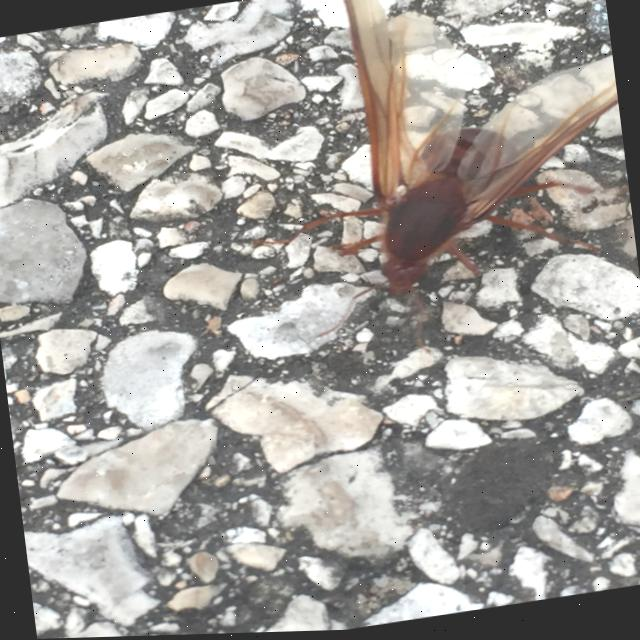Alive-Male-Alate: (221, 0, 640, 384)
